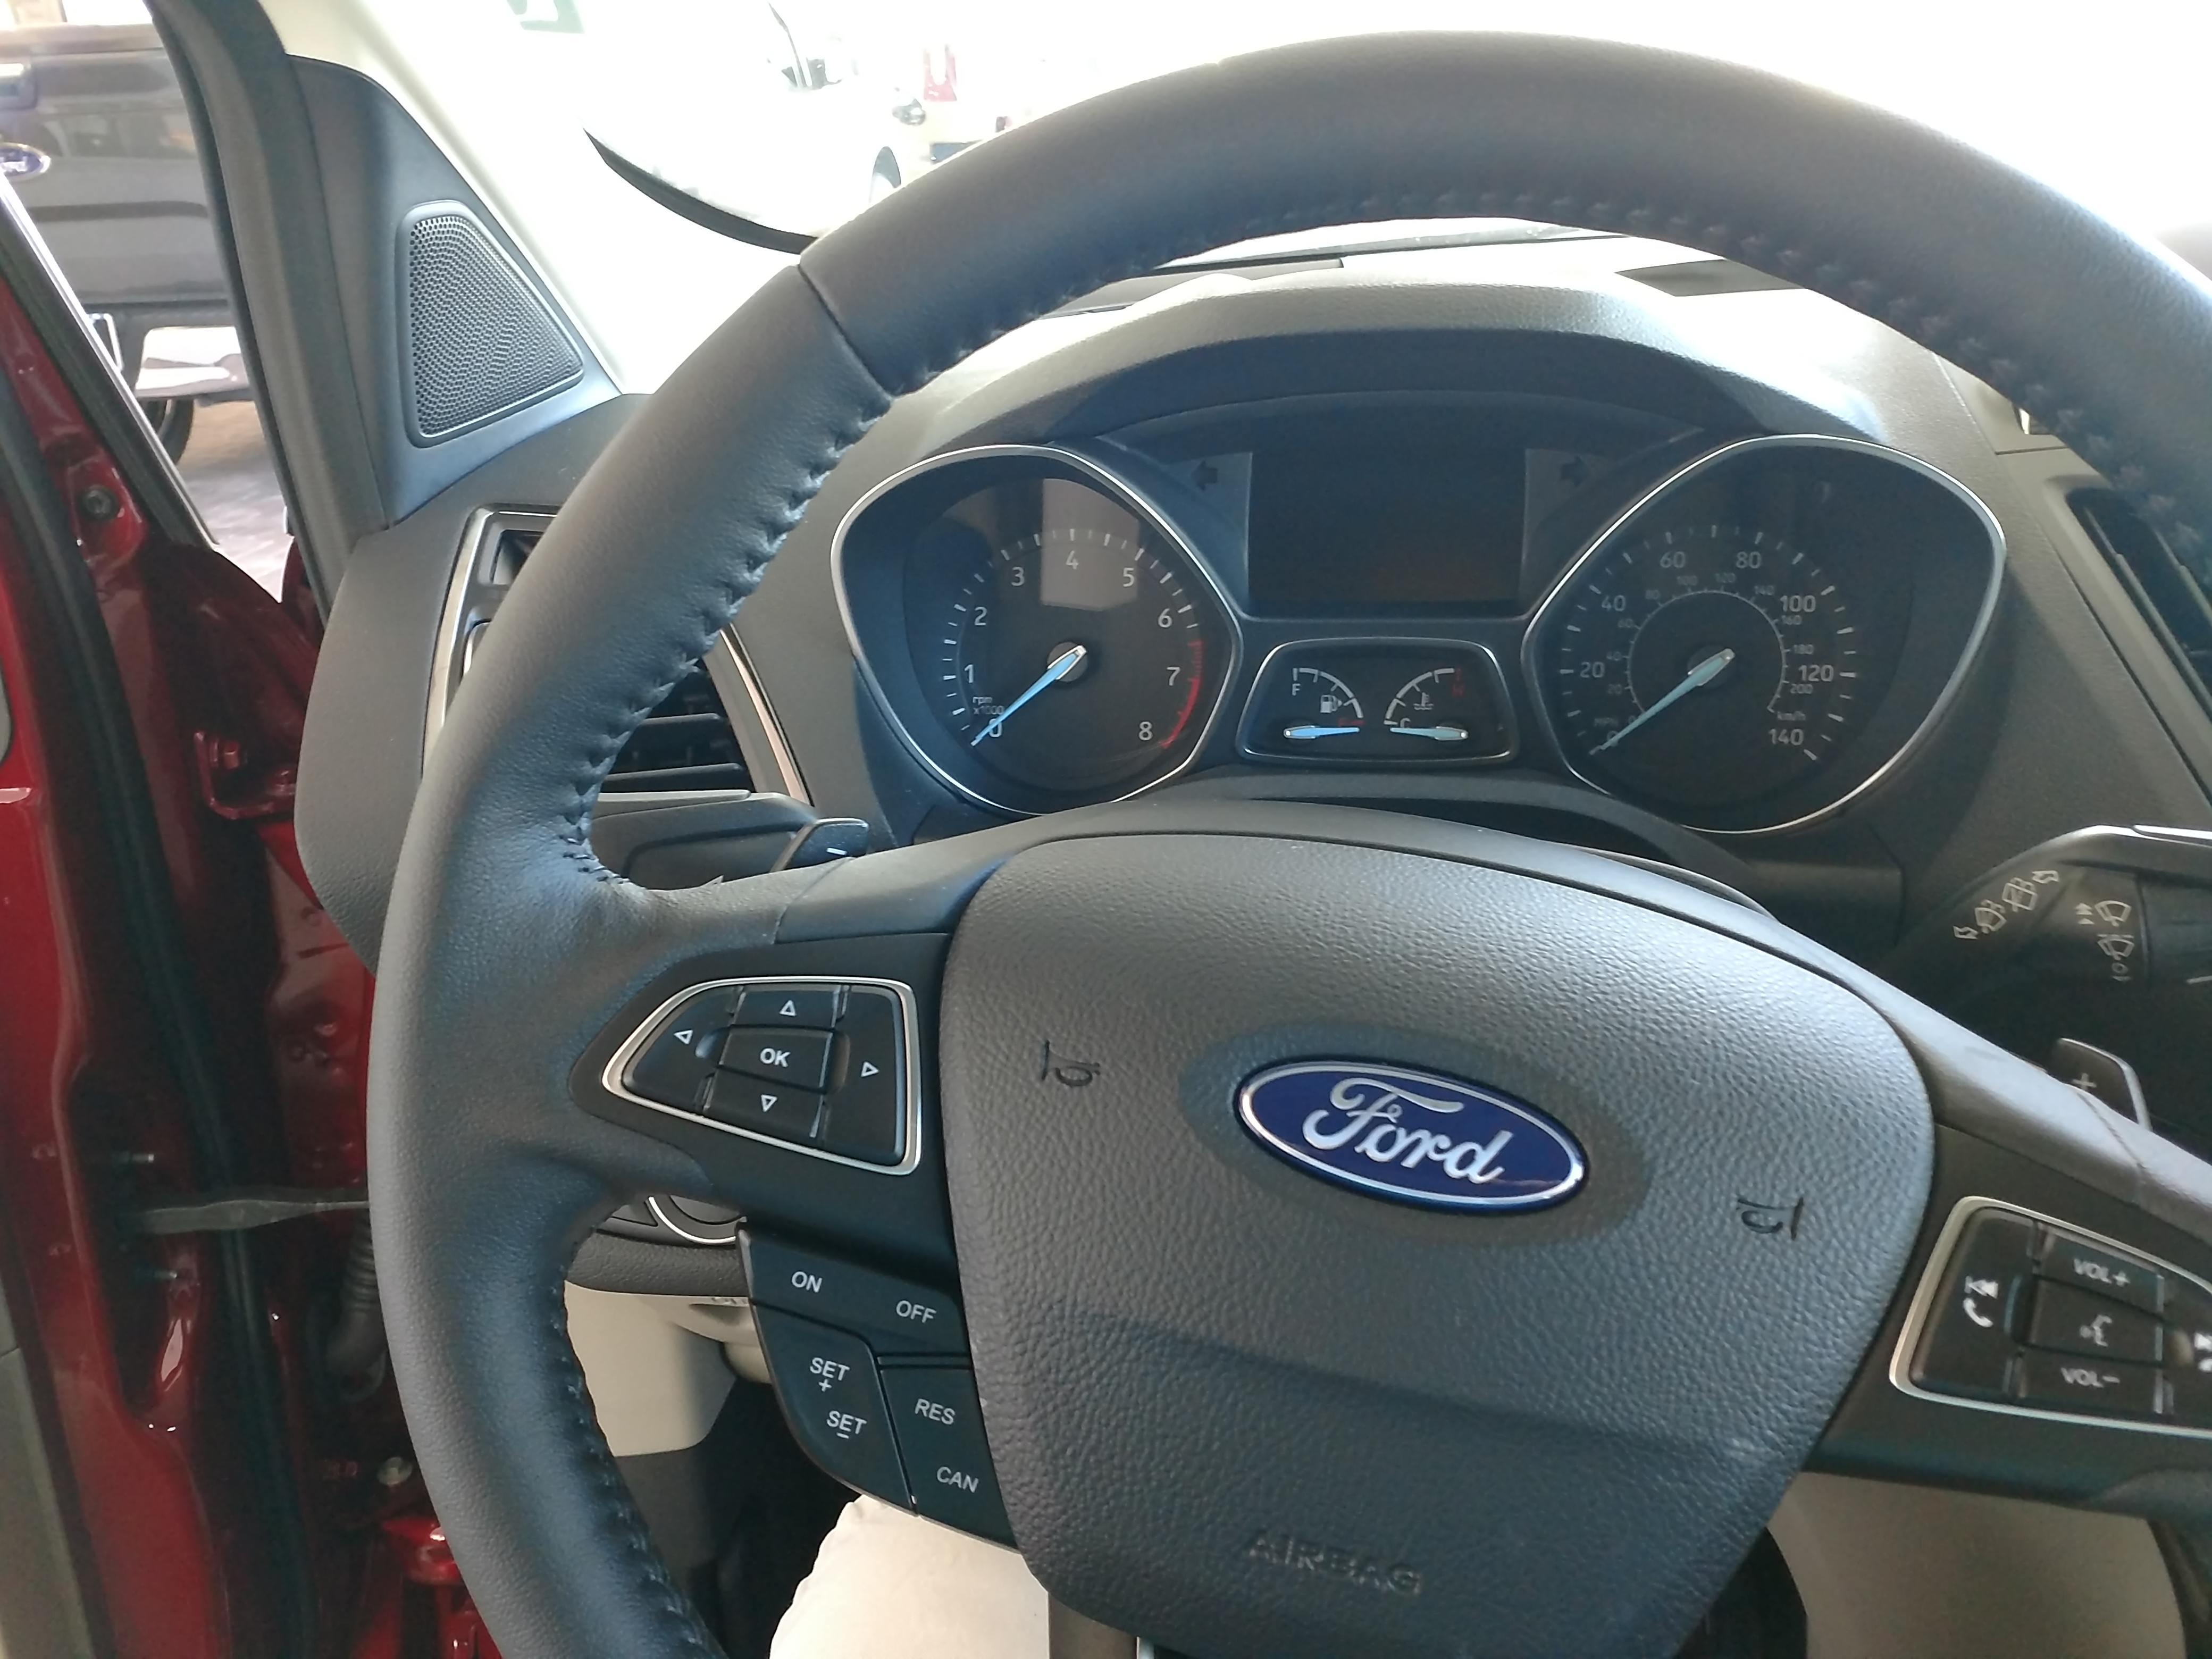Ford: (1221, 1040, 1608, 1229)
